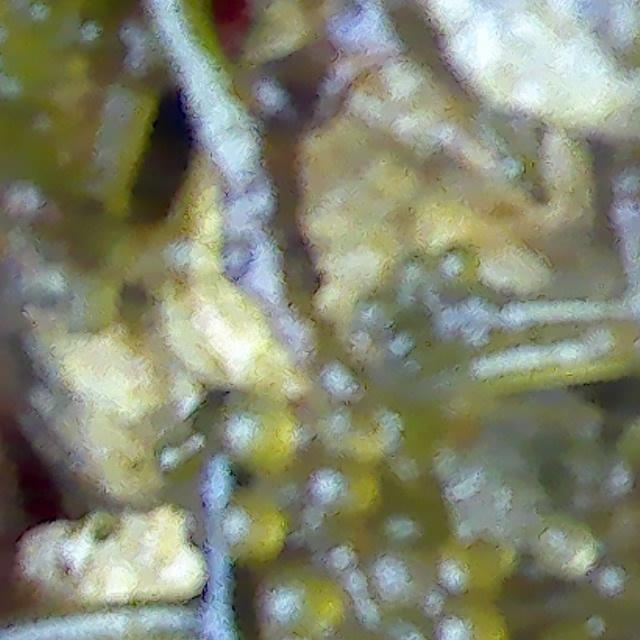SeaGrape: (219, 397, 291, 466), (265, 575, 337, 636), (223, 493, 285, 557)
